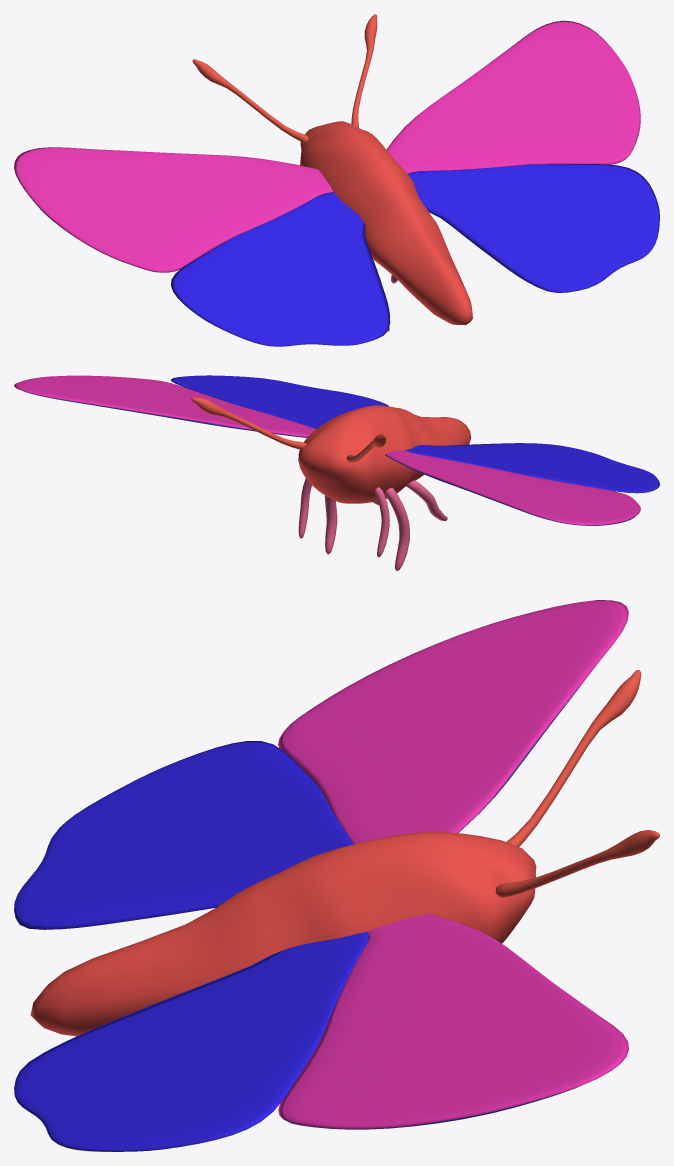
The model's file is largeskipper uvunwrap 2.fbx.
The picture shows the model from 3 angles, top to bottom: view 1: azimuth 30°, elevation 25°; view 2: azimuth 150°, elevation 25°; view 3: azimuth 270°, elevation 25°; orthographic projection. The views are drawn at different scales.
Parts seen in each view (by area): view 1: upper wing, down wing, body, antenna; view 2: upper wing, down wing, body, middle legs, antenna, fromt legs, hind legs; view 3: upper wing, down wing, body, antenna.
Boxes of the visible parts, x1=… form: upper wing: x1=14, y1=20, x2=640, y2=272; down wing: x1=171, y1=164, x2=659, y2=346; body: x1=300, y1=121, x2=472, y2=325; antenna: x1=192, y1=14, x2=377, y2=143; upper wing: x1=14, y1=375, x2=640, y2=525; down wing: x1=171, y1=375, x2=659, y2=493; body: x1=298, y1=405, x2=471, y2=503; middle legs: x1=324, y1=488, x2=409, y2=571; antenna: x1=191, y1=397, x2=386, y2=462; fromt legs: x1=298, y1=478, x2=389, y2=557; hind legs: x1=372, y1=480, x2=447, y2=521; upper wing: x1=278, y1=600, x2=628, y2=1129; down wing: x1=14, y1=741, x2=369, y2=1151; body: x1=30, y1=831, x2=536, y2=1036; antenna: x1=495, y1=670, x2=659, y2=897.
Size of the model in its own units: 188 by 62.14 by 105.
